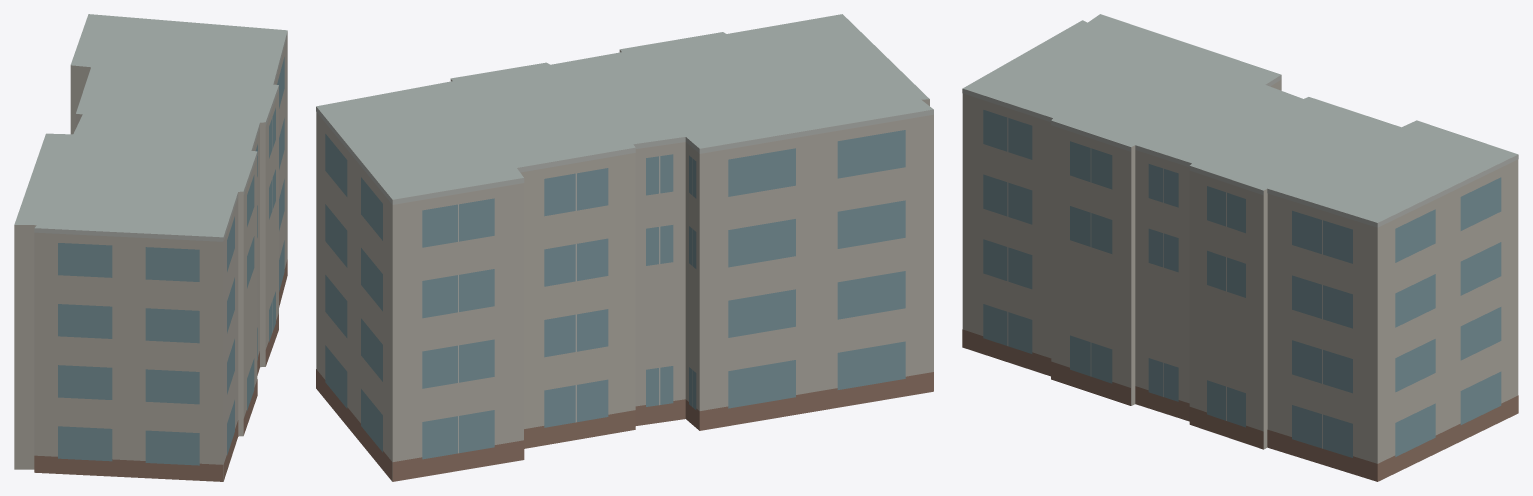
The model's file is survey-upis-32770145.glb.
3 renders of one model, left to right at view 1: azimuth 30°, elevation 25°; view 2: azimuth 150°, elevation 25°; view 3: azimuth 270°, elevation 25°, orthographic. The views are drawn at different scales.
Parts seen in each view (by area): view 1: survey-upis-32770145.tmp; view 2: survey-upis-32770145.tmp; view 3: survey-upis-32770145.tmp.
Boxes of the visible parts, x1=… form: survey-upis-32770145.tmp: x1=14, y1=14, x2=287, y2=481; survey-upis-32770145.tmp: x1=316, y1=14, x2=933, y2=481; survey-upis-32770145.tmp: x1=962, y1=14, x2=1518, y2=481.
Bounding box in the file's own units: 23.03 × 13.3 × 25.89.
